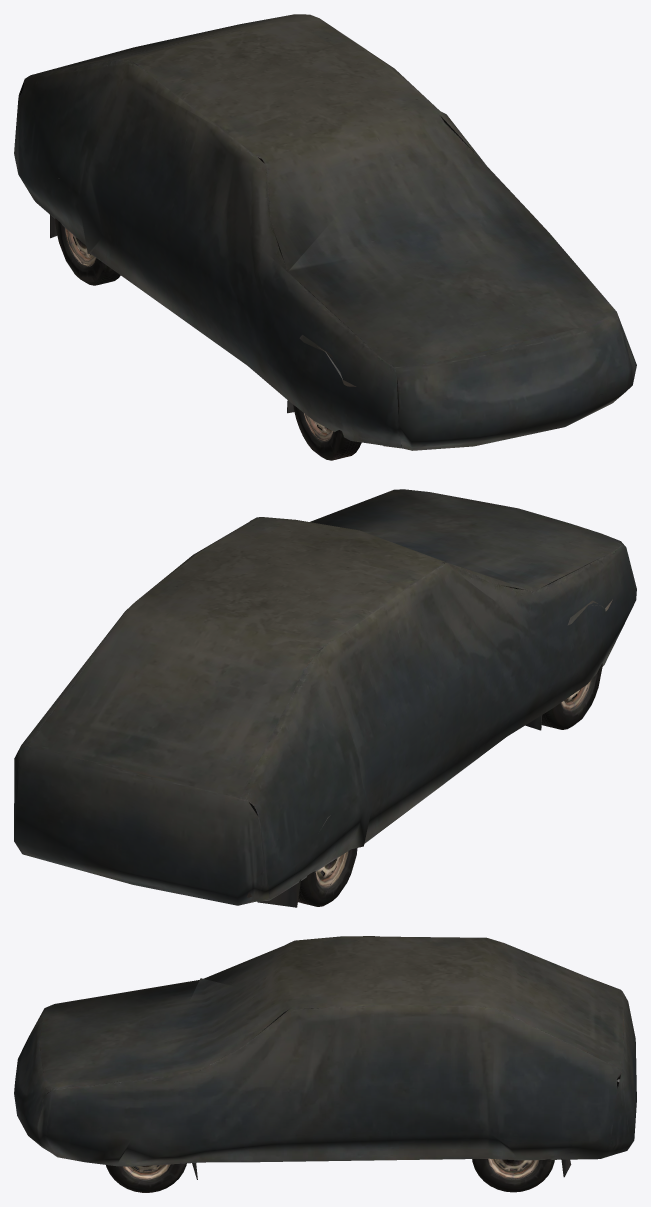
File: covered_car.glb
The picture shows the model from 3 angles, top to bottom: view 1: azimuth 30°, elevation 25°; view 2: azimuth 150°, elevation 25°; view 3: azimuth 270°, elevation 25°; orthographic projection. The views are drawn at different scales.
Parts seen in each view (by area): view 1: covered_car_wheel_01; view 2: covered_car_wheel_01; view 3: covered_car_wheel_01.
Part boxes in pixels (<box>): covered_car_wheel_01: <box>14,14,636,460</box>; covered_car_wheel_01: <box>14,489,636,907</box>; covered_car_wheel_01: <box>14,936,636,1192</box>.
Size of the model in its own units: 1.79 by 1.41 by 4.38.
Materials: 1 (1 with a texture image).
